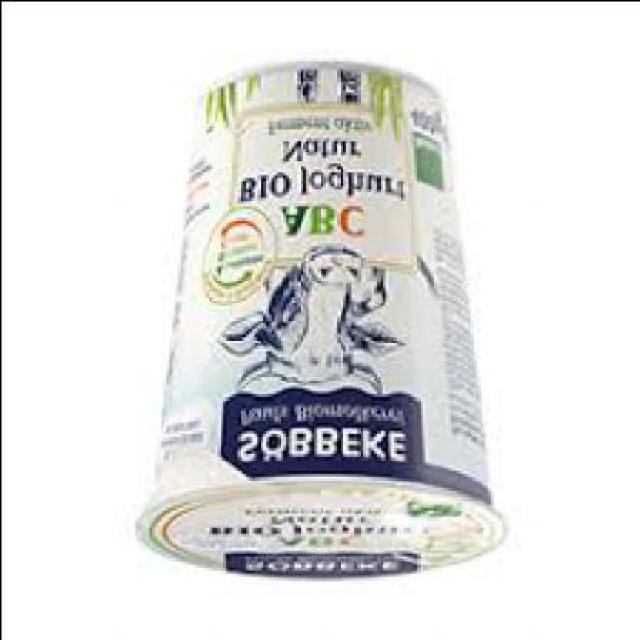PLASTIC: (131, 63, 503, 580)
